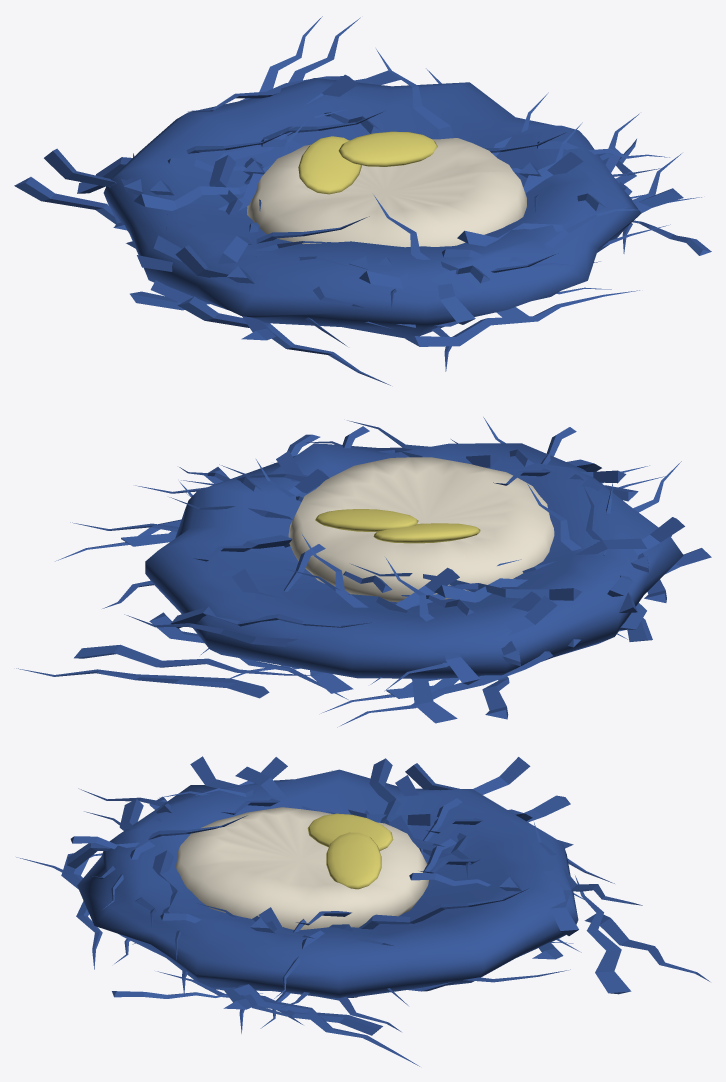
Rendered from Klax_Bed_01.fbx.
3 renders of one model, top to bottom at view 1: azimuth 30°, elevation 25°; view 2: azimuth 150°, elevation 25°; view 3: azimuth 270°, elevation 25°, orthographic. The views are drawn at different scales.
Visible parts, largest first — view 1: Klax_Bed_01; view 2: Klax_Bed_01; view 3: Klax_Bed_01.
Boxes of the visible parts, x1,y1,x2,y2 form: Klax_Bed_01: [14, 16, 711, 385]; Klax_Bed_01: [16, 417, 711, 727]; Klax_Bed_01: [16, 756, 709, 1066].
Bounding box in the file's own units: 10.48 × 1.8 × 12.31.
